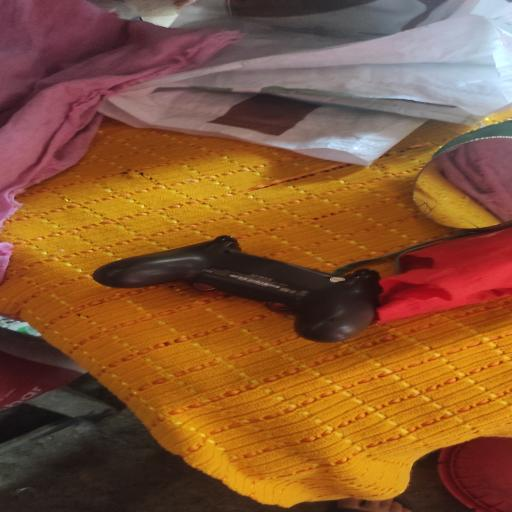ControlPlay4: (93, 235, 382, 343)
